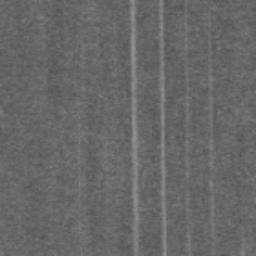Bright scratch: (130, 0, 139, 256), (159, 0, 167, 256), (208, 0, 214, 256), (185, 0, 190, 256)
